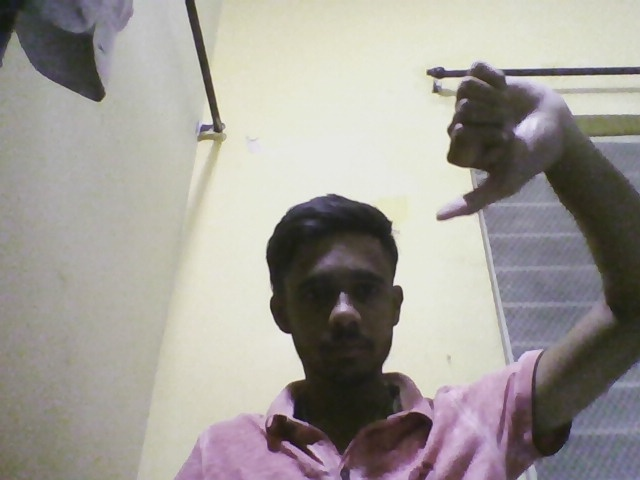no: (420, 53, 579, 233)
